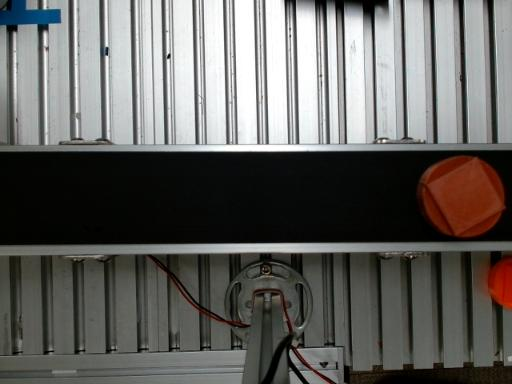Brown_Waper: (417, 155, 505, 238)
Square: (426, 157, 505, 237)
